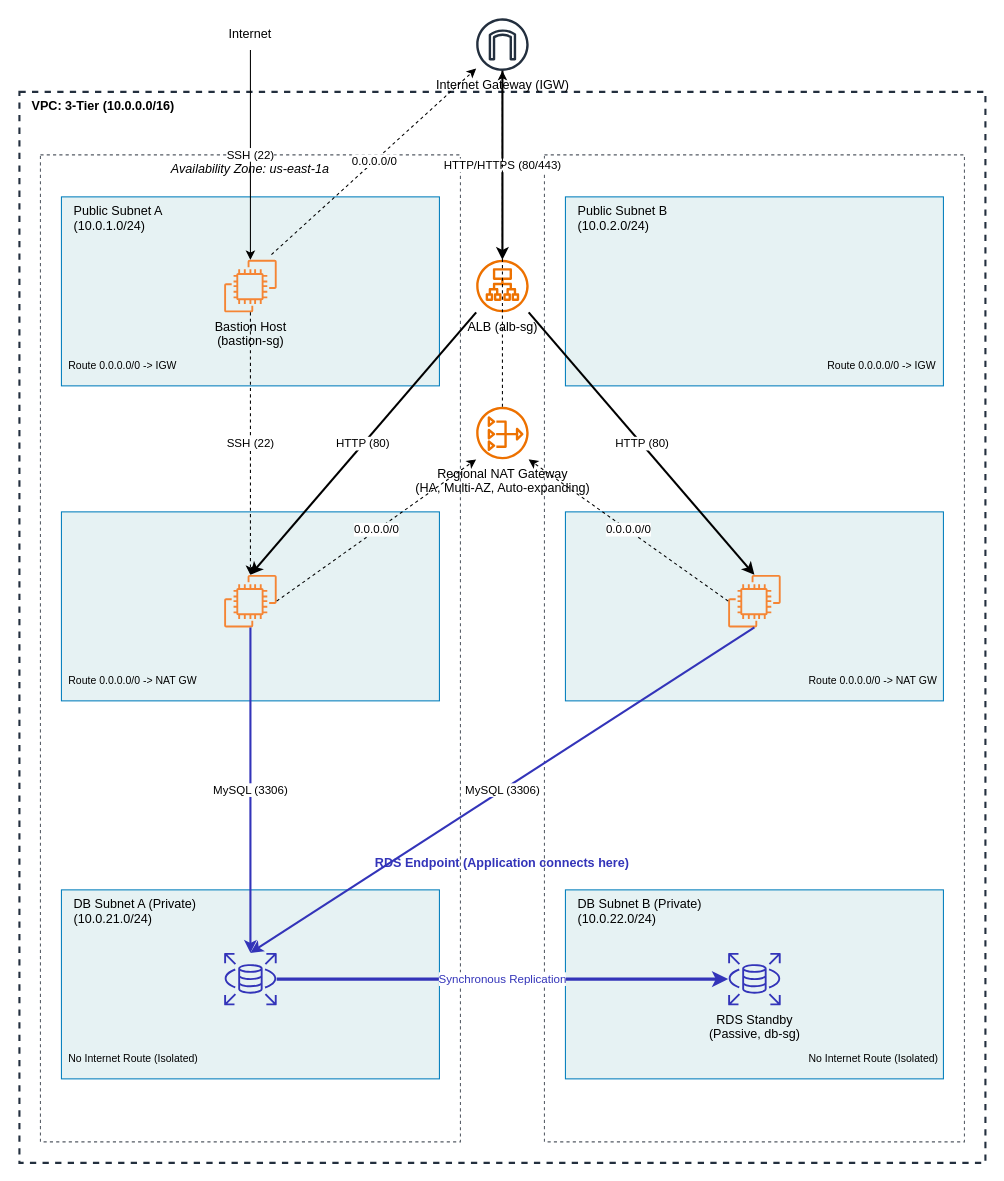
Image size: 1004x1181. Some labels were removed from this diagram. The box of each missing label's shape, as (x1, y1, x2, y2) in pixels:
App Server A (app-sg): (224, 574, 276, 627)
App Server B (app-sg): (728, 574, 780, 627)
App Subnet A (Private) (10.0.11.0/24): (60, 511, 439, 701)
App Subnet B (Private) (10.0.12.0/24): (564, 511, 943, 701)
Availability Zone: us-east-1b: (543, 154, 964, 1142)
RDS Primary (MySQL, db-sg): (224, 952, 276, 1005)
